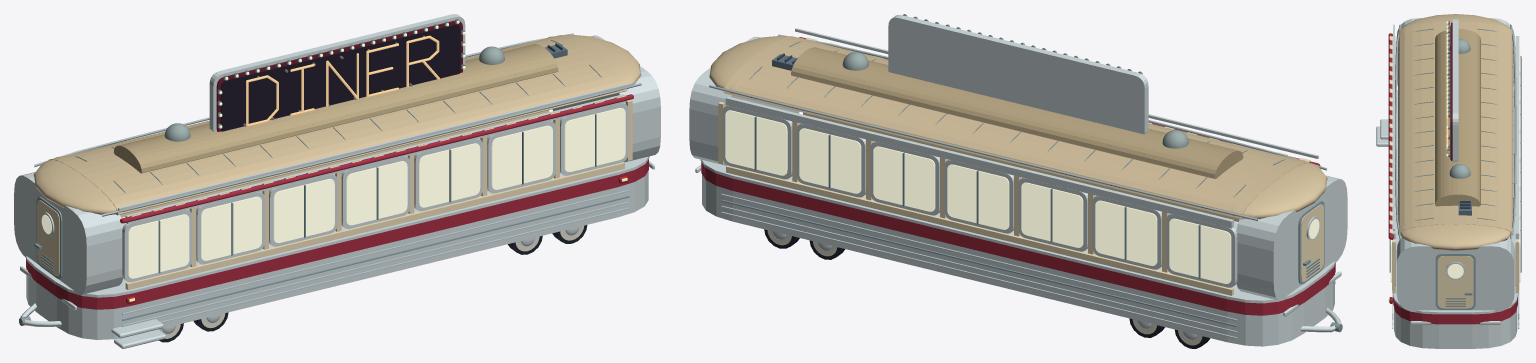
The model's file is car-map.glb.
The picture shows the model from 3 angles, left to right: view 1: azimuth 30°, elevation 25°; view 2: azimuth 150°, elevation 25°; view 3: azimuth 270°, elevation 25°; orthographic projection. The views are drawn at different scales.
Parts seen in each view (by area): view 1: car-body; view 2: car-body; view 3: car-body.
Boxes of the visible parts, x1,y1,x2,y2 form: car-body: [14, 14, 660, 348]; car-body: [689, 14, 1347, 346]; car-body: [1376, 14, 1521, 348].
Size of the model in its own units: 12.99 by 4.58 by 3.3.
